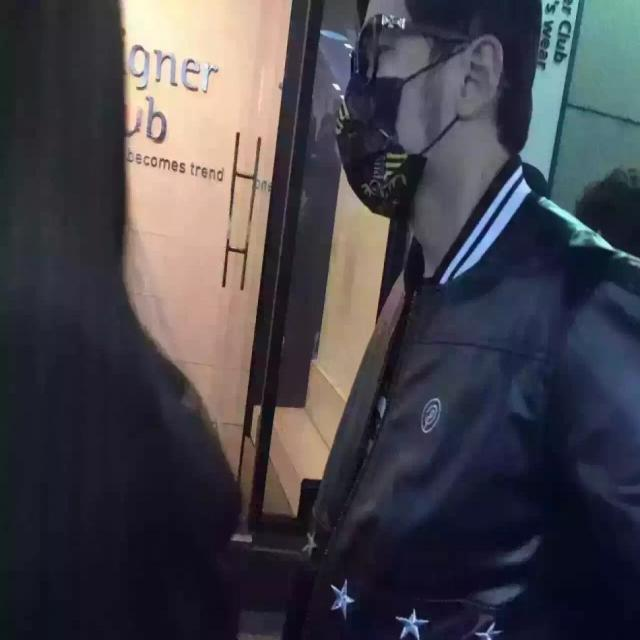mask: (348, 0, 442, 188)
